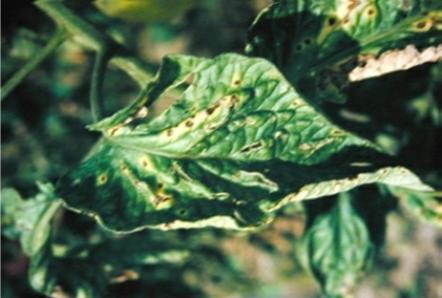Tomato Septoria leaf spot: (45, 54, 427, 236)
